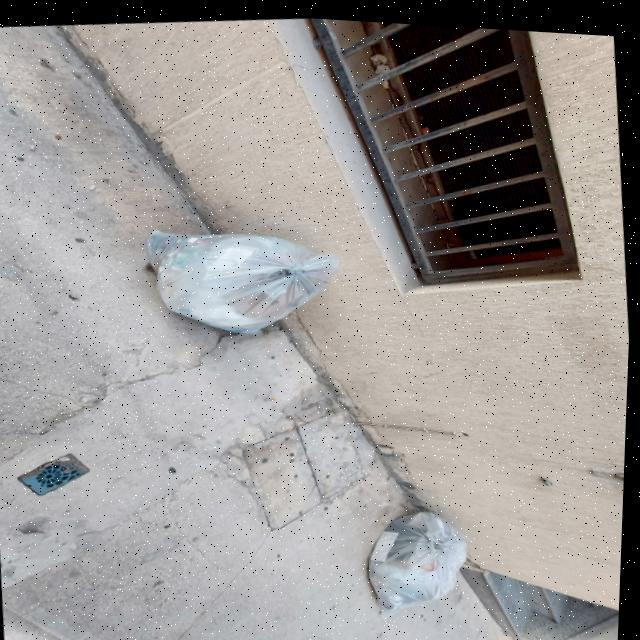Recycled Waste -Grey or Green Bag-: (134, 203, 357, 351), (356, 491, 486, 623)
